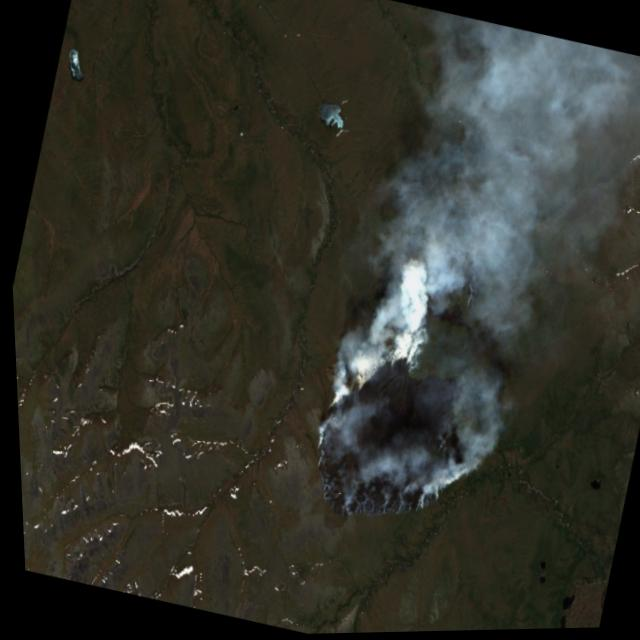fire: (286, 337, 495, 552), (378, 236, 451, 343), (449, 256, 490, 309)
